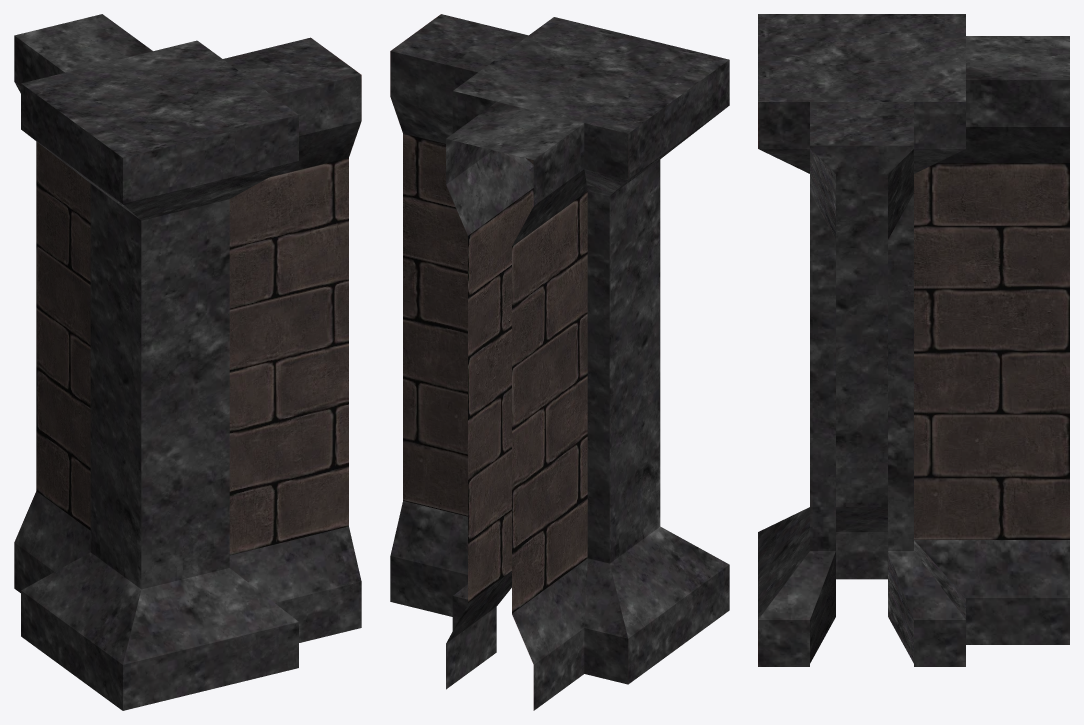
The model's file is Bk_Corner.glb.
3 views of the same model, side by side, from view 1: azimuth 30°, elevation 25°; view 2: azimuth 150°, elevation 25°; view 3: azimuth 270°, elevation 25° (orthographic). The views are drawn at different scales.
Visible parts, largest first — view 1: Bk_Corner; view 2: Bk_Corner; view 3: Bk_Corner.
Boxes of the visible parts, bbox=[...] form: Bk_Corner: bbox=[14, 14, 361, 710]; Bk_Corner: bbox=[390, 14, 729, 710]; Bk_Corner: bbox=[758, 14, 1069, 666].
Bounding box in the file's own units: 1.5 × 3 × 1.5.
1 material, 1 textured.
